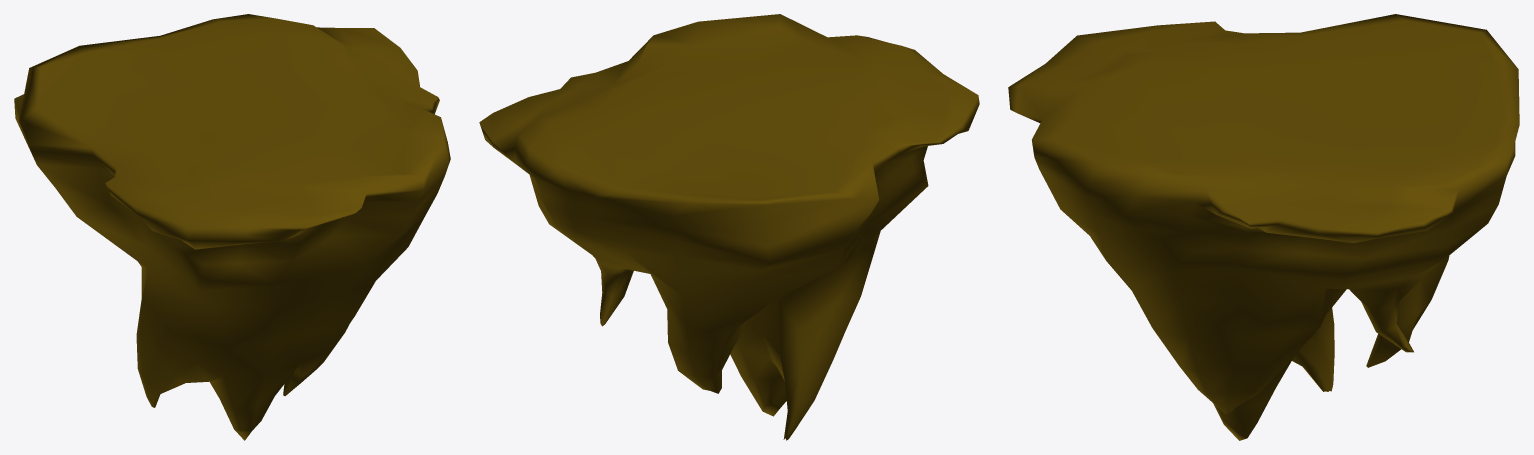
File: Lrg island.fbx
3 views of the same model, side by side, from view 1: azimuth 30°, elevation 25°; view 2: azimuth 150°, elevation 25°; view 3: azimuth 270°, elevation 25° (orthographic). The views are drawn at different scales.
Parts seen in each view (by area): view 1: Lrg_Island; view 2: Lrg_Island; view 3: Lrg_Island.
Part boxes in pixels (x1=…): Lrg_Island: x1=14, y1=14, x2=450, y2=440; Lrg_Island: x1=479, y1=14, x2=979, y2=440; Lrg_Island: x1=1008, y1=14, x2=1519, y2=440.
Bounding box in the file's own units: 42.58 × 34.25 × 44.73.
